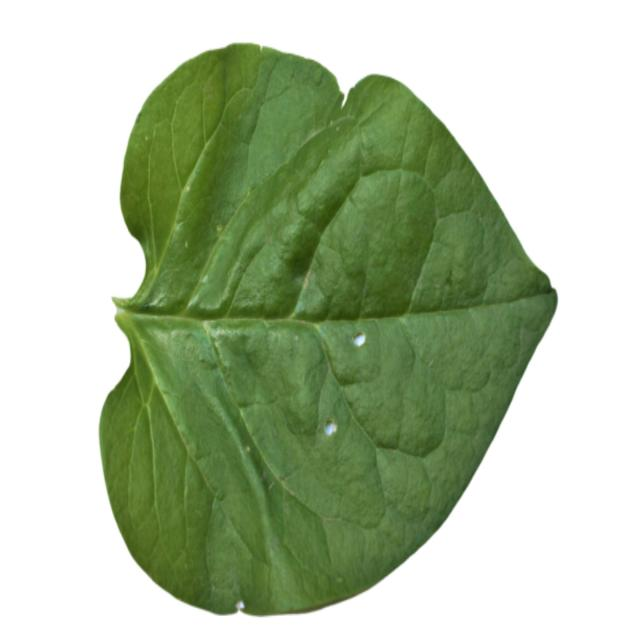Medicinal-Basale: (98, 40, 556, 617)
